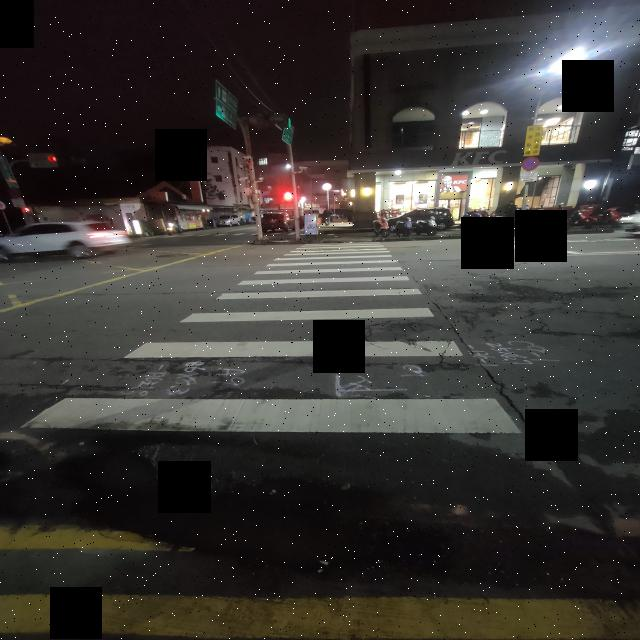zebra_crossing: (330, 313, 640, 555), (177, 115, 336, 350)
